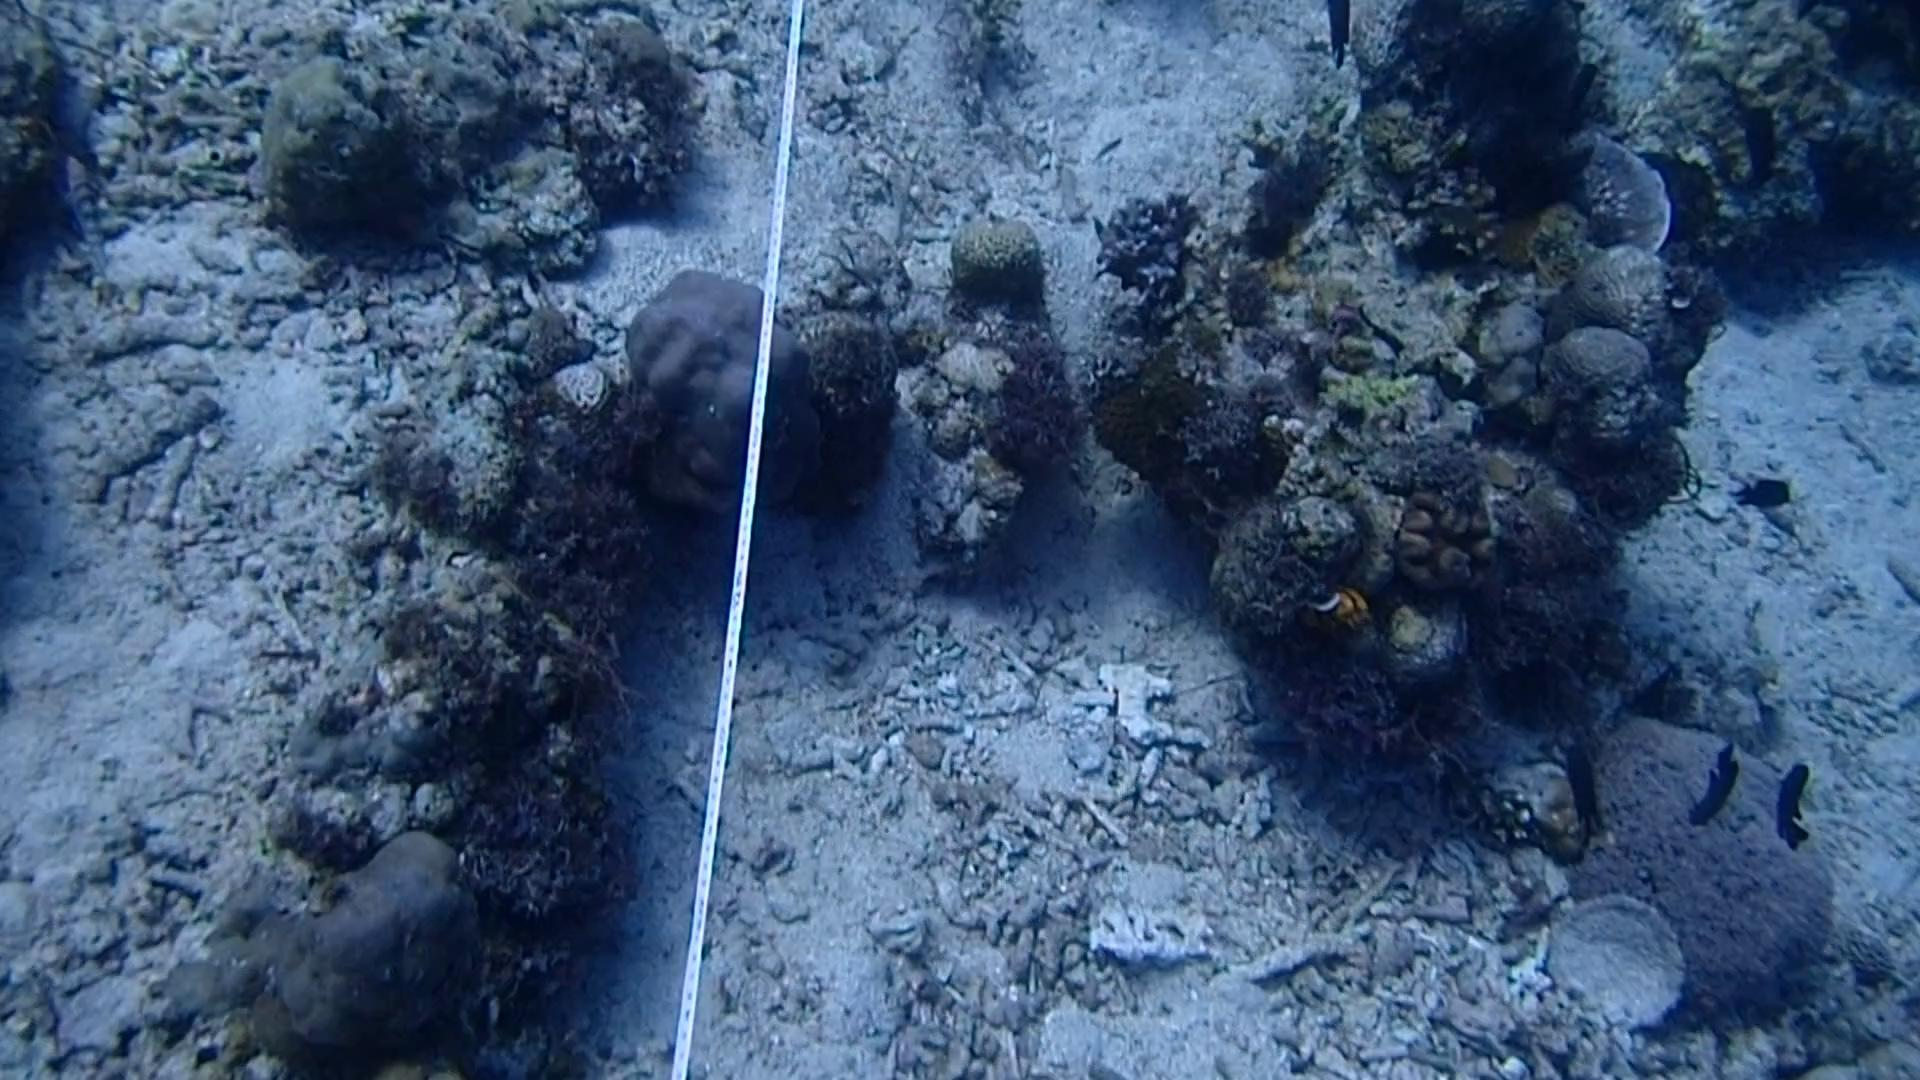Dark Fish: (1548, 724, 1622, 836), (1672, 733, 1750, 832), (1763, 749, 1825, 864), (1720, 454, 1800, 531), (1735, 92, 1792, 194)
Light Fish w Back Stripes: (41, 138, 131, 285)
